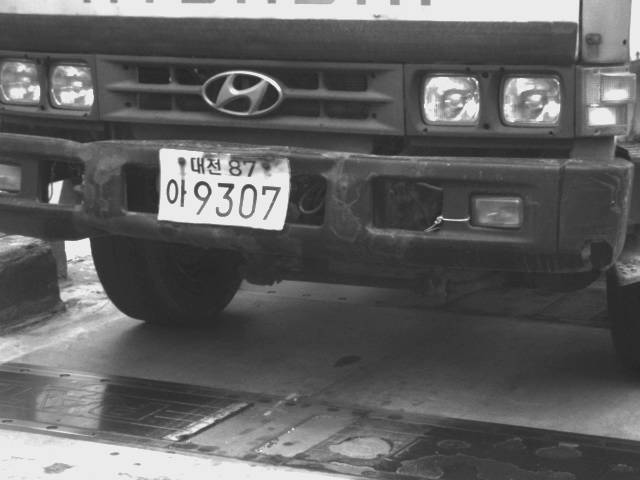car: (1, 1, 638, 380)
plate: (152, 145, 293, 232)
